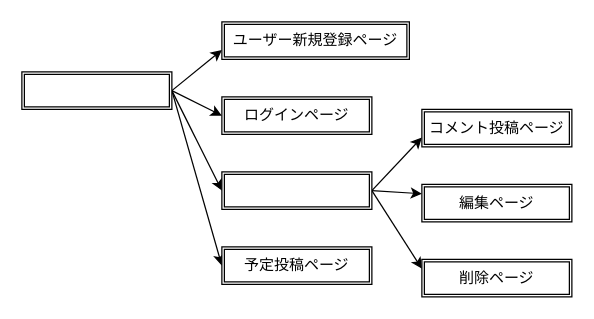
The diagram is 594 pixels wide and 319 high, and some of its shapes have lost their labels. The shapes that lost their labels are listed below. From the top down, each one's centre as x and y in pixels, then its label:
At point 96,90: "一覧ページ".
At point 296,190: "予定詳細ページ".
